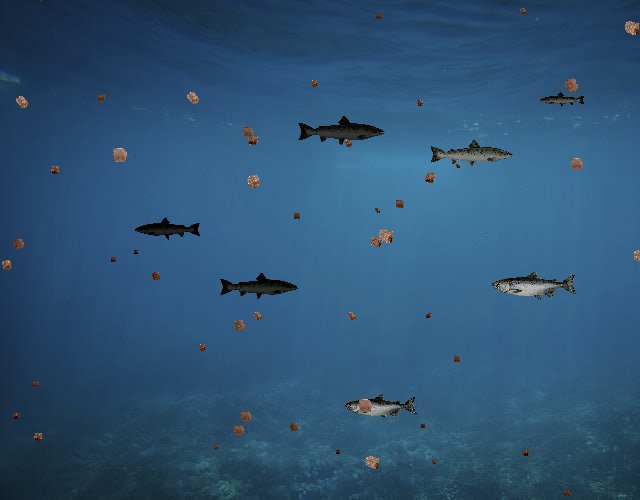Fish: (296, 115, 386, 147), (428, 138, 514, 169), (492, 270, 578, 301), (219, 272, 300, 301), (345, 394, 418, 420), (134, 216, 202, 241), (539, 92, 586, 109)
Pellet: (104, 140, 134, 169), (242, 129, 264, 151), (0, 254, 18, 276), (342, 307, 361, 326), (391, 195, 408, 213), (518, 446, 532, 460), (372, 9, 386, 23), (422, 309, 435, 322), (107, 254, 119, 266), (210, 442, 220, 452)
